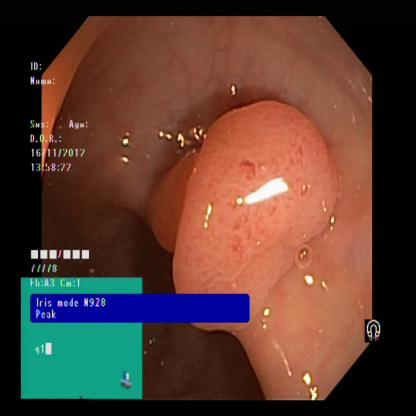Labels: (20, 278, 143, 401), (25, 59, 98, 179), (34, 293, 251, 320), (27, 248, 102, 276), (361, 317, 389, 344)
Polyps: (171, 107, 328, 289)
